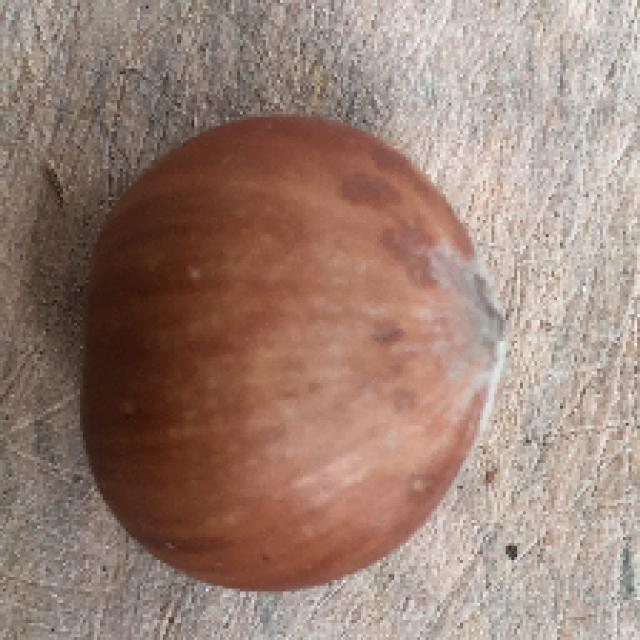DamagedHazelnut: (82, 115, 511, 590)
